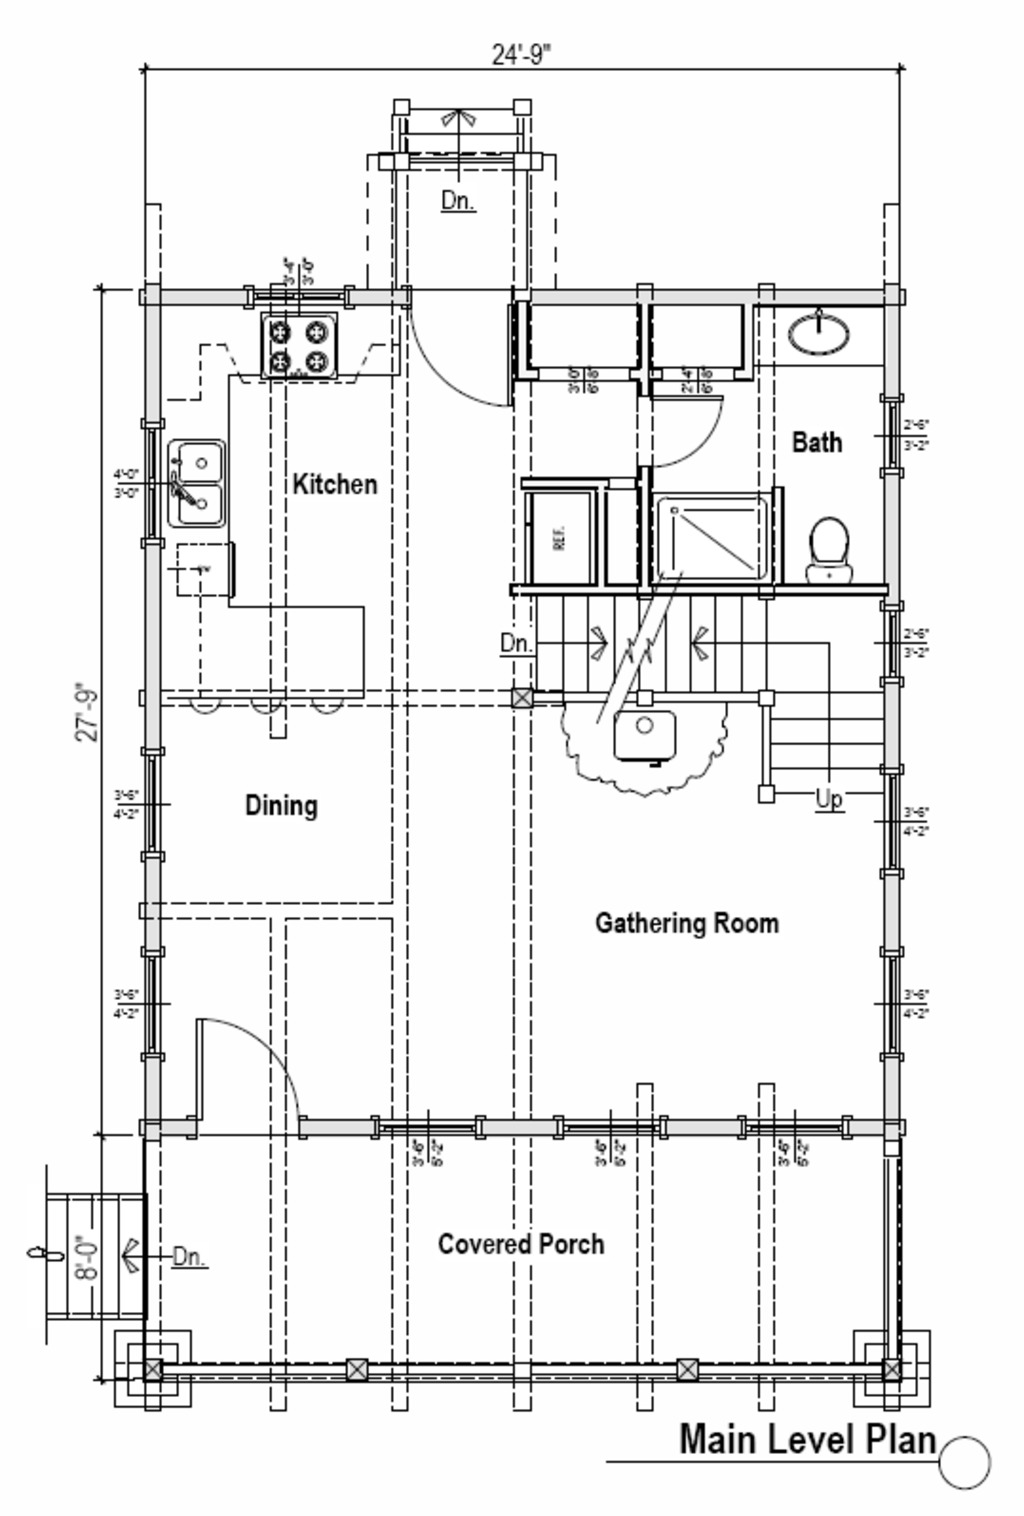door: (178, 1011, 301, 1140), (392, 290, 507, 425), (643, 382, 730, 470)
large_sink: (797, 481, 872, 581)
small_sink: (785, 308, 864, 369)
stairs: (534, 588, 888, 807)
twin_sink: (167, 426, 239, 542)
